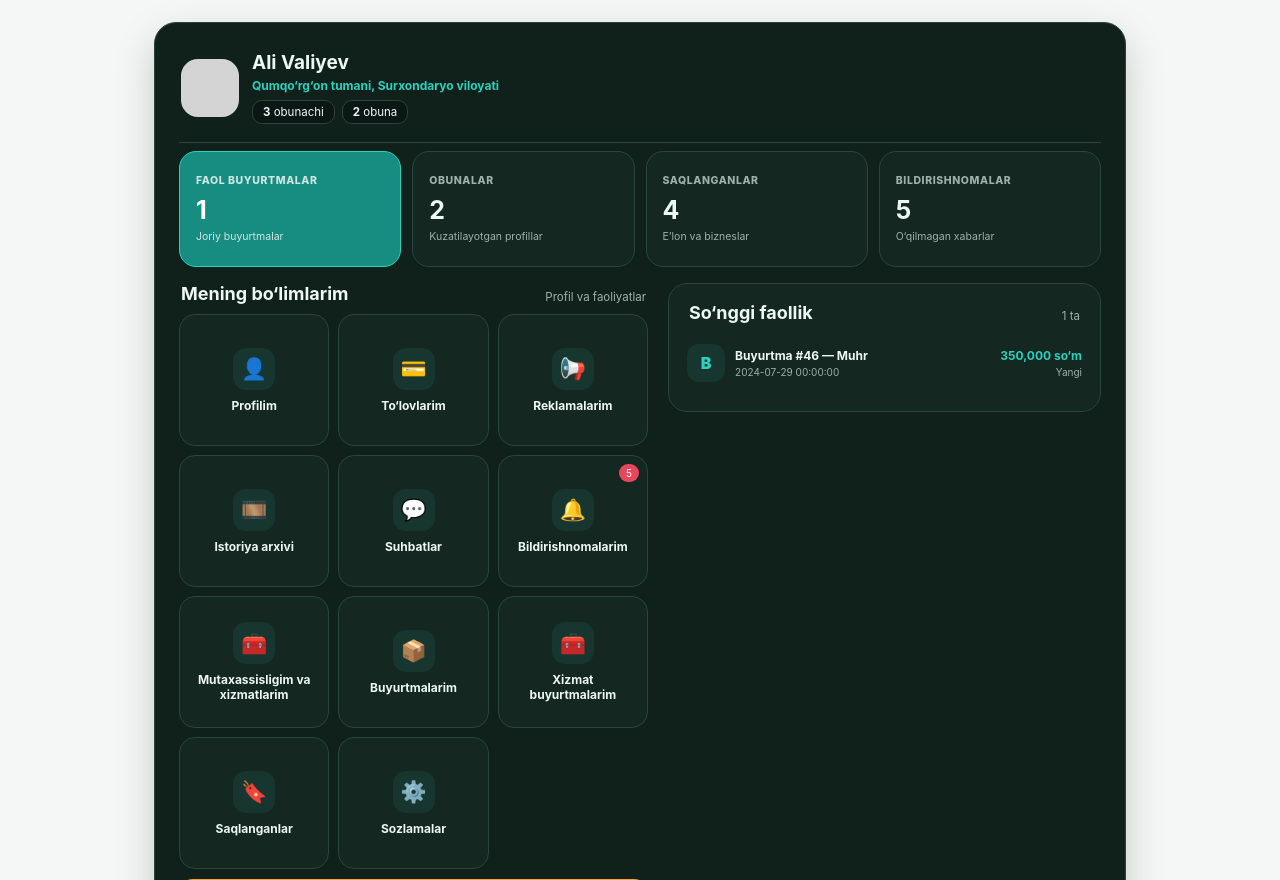
it: v1656 user cabinet and profile parity › renders the v1656 profile card, fields and local share QR
Click the button named "Profilim Ism, telefon, yashash tumani": (254, 380) x1=179 y1=314 x2=329 y2=446
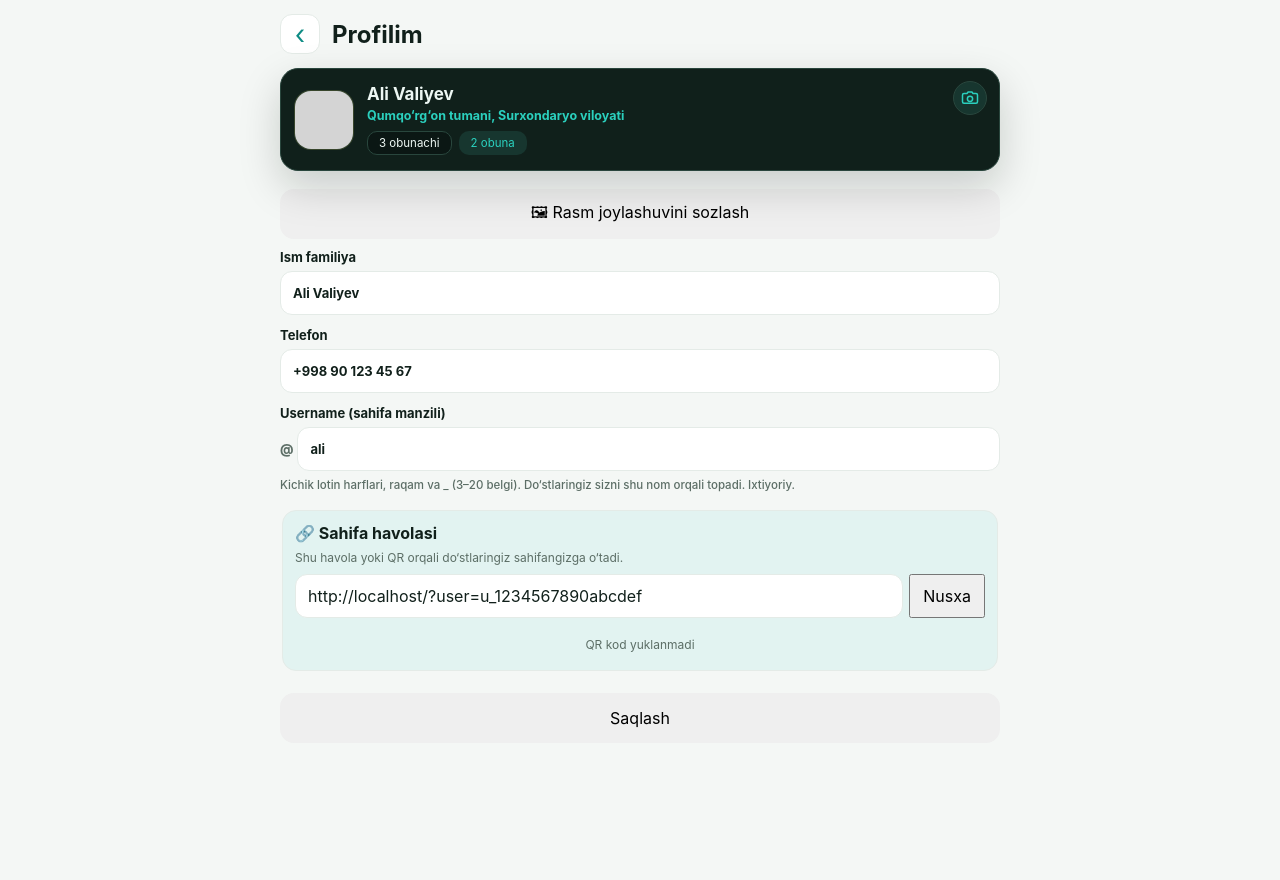
Expected: the field labelled "Ism familiya" holds "Ali Valiyev", x1=280 y1=271 x2=1000 y2=315
Expected: the field labelled "Telefon" holds "+998 90 123 45 67", x1=280 y1=349 x2=1000 y2=393
Expected: the field labelled "Username (sahifa manzili)" holds "ali", x1=298 y1=427 x2=1000 y2=471
